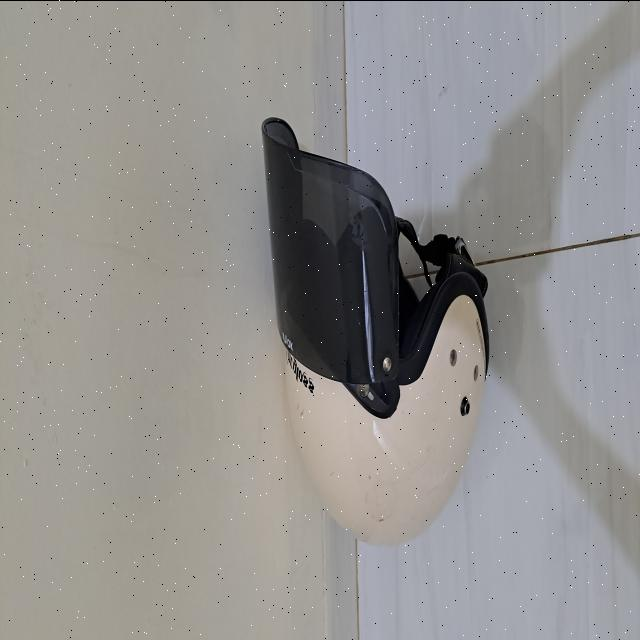Helmet: (261, 116, 490, 544)
